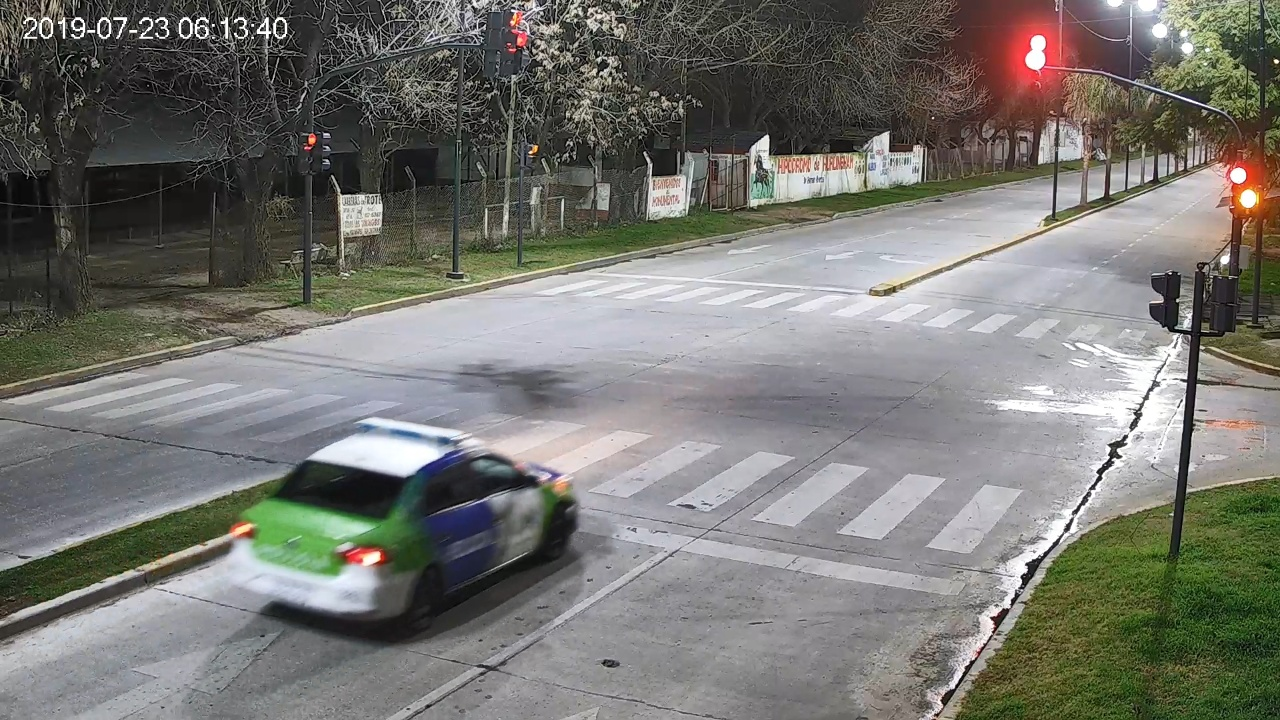police car: (230, 416, 581, 631)
traffic light: (1026, 49, 1045, 93)
